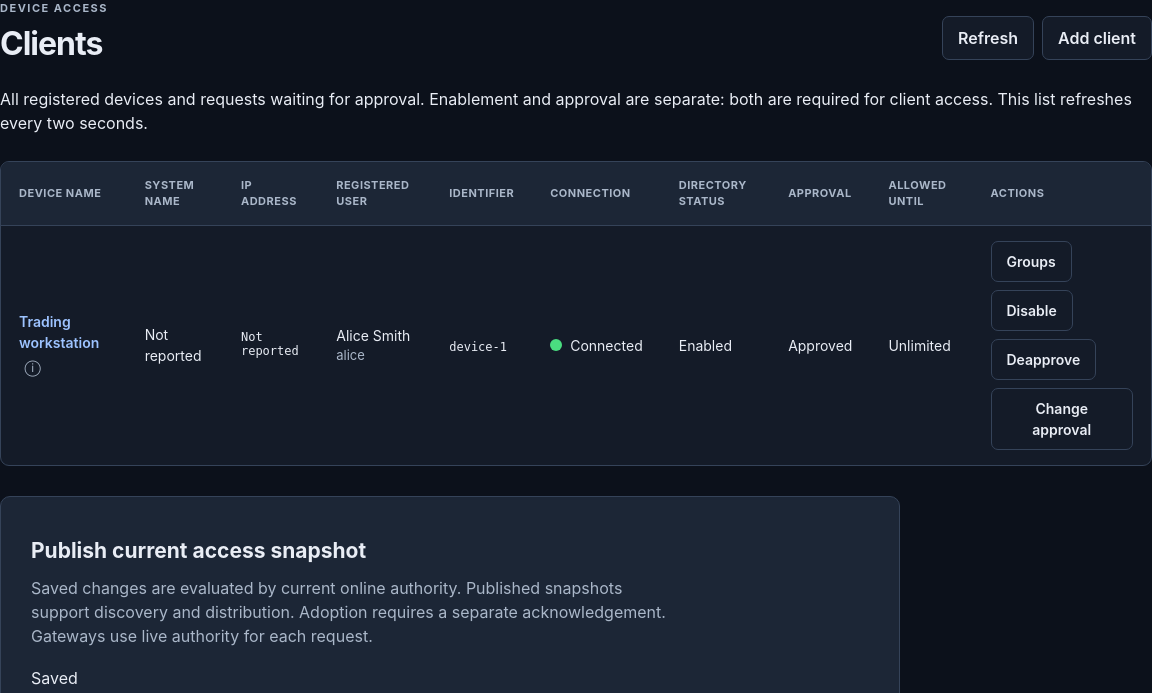
Test: Device management › deapproves without disabling, and disables with directory concurrency independently
The image size is (1152, 693).
Click the button with aria-label "Deapprove device-1". click: (1043, 359)
box: [990, 339, 1096, 380]
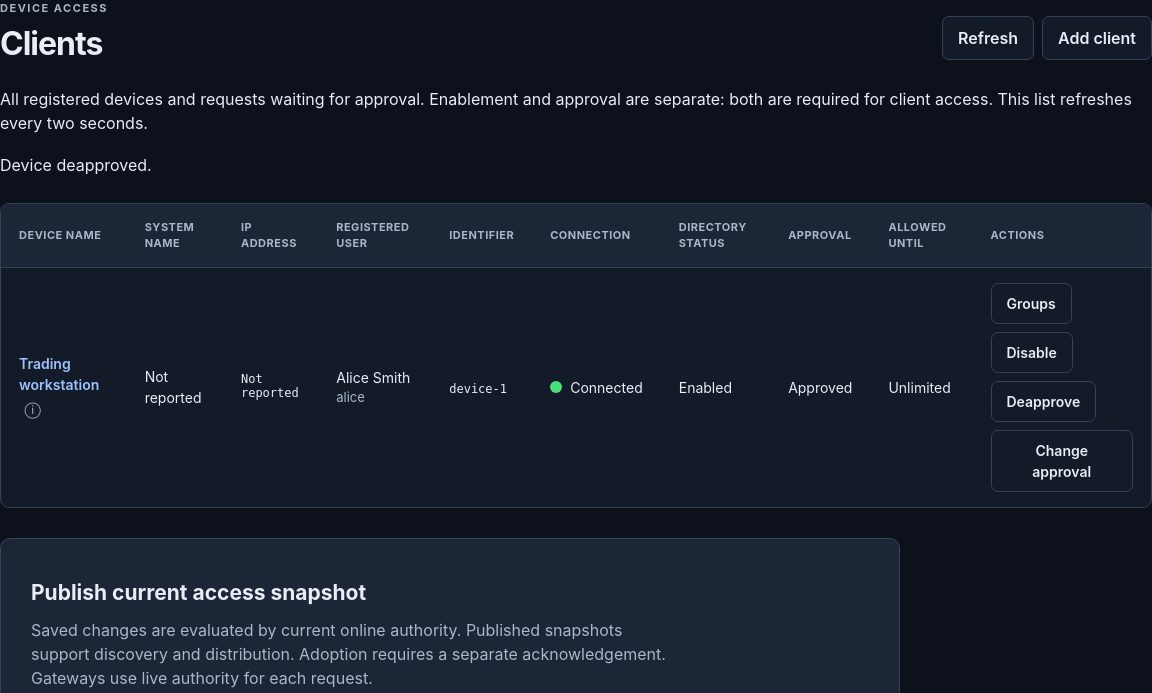
Expected: the text "Device deapproved." is shown, [0, 155, 152, 175]
Click the button with aria-label "Disable device-1". click: (1032, 352)
box: [990, 332, 1073, 373]
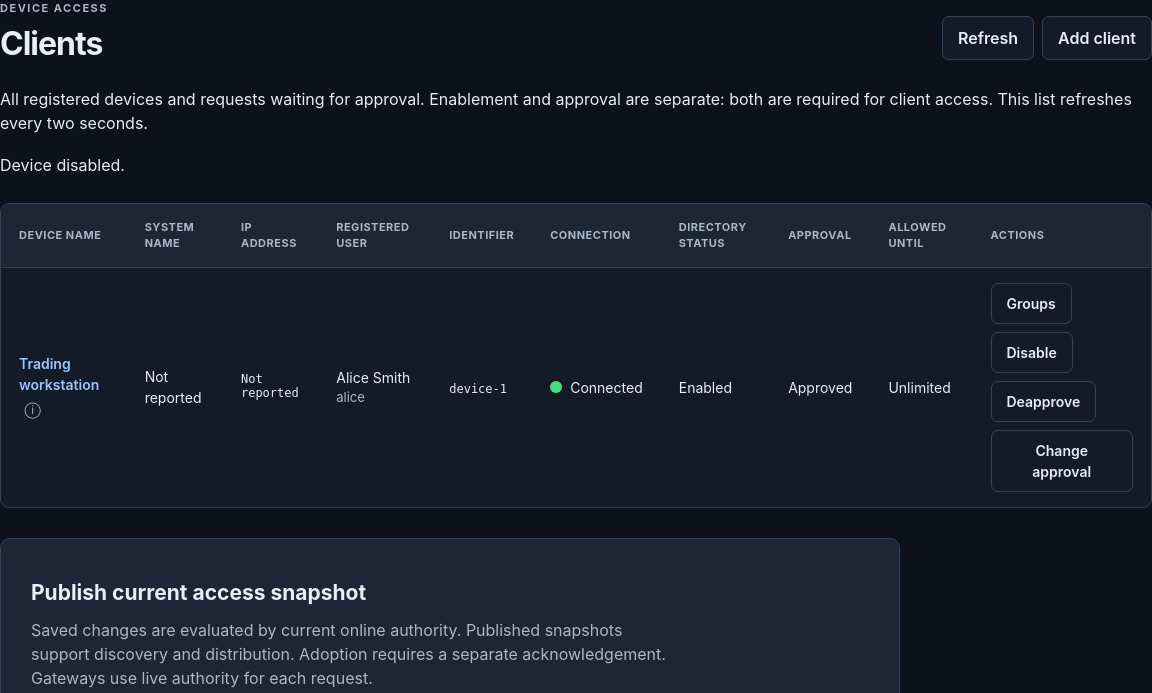
Expected: the text "Device disabled." is shown, [0, 155, 125, 175]
